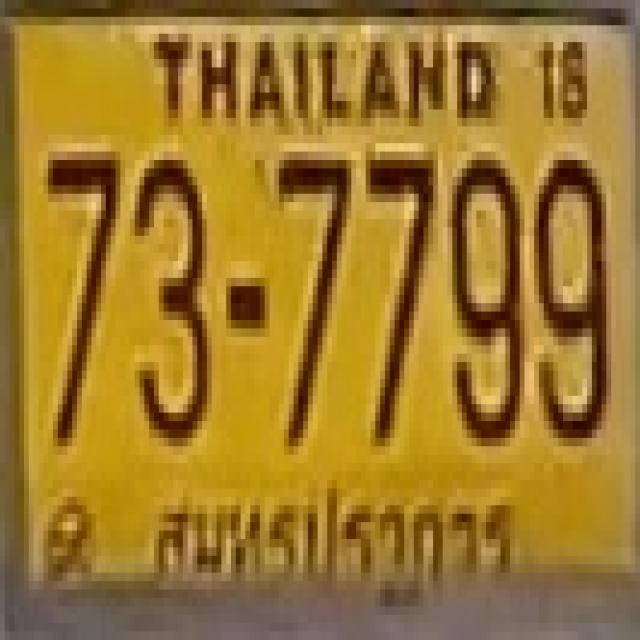3: (130, 151, 207, 438)
7: (44, 143, 116, 438), (274, 147, 346, 442), (363, 151, 431, 438)
9: (530, 151, 606, 438), (448, 151, 520, 438)
SPK: (149, 481, 524, 598)
